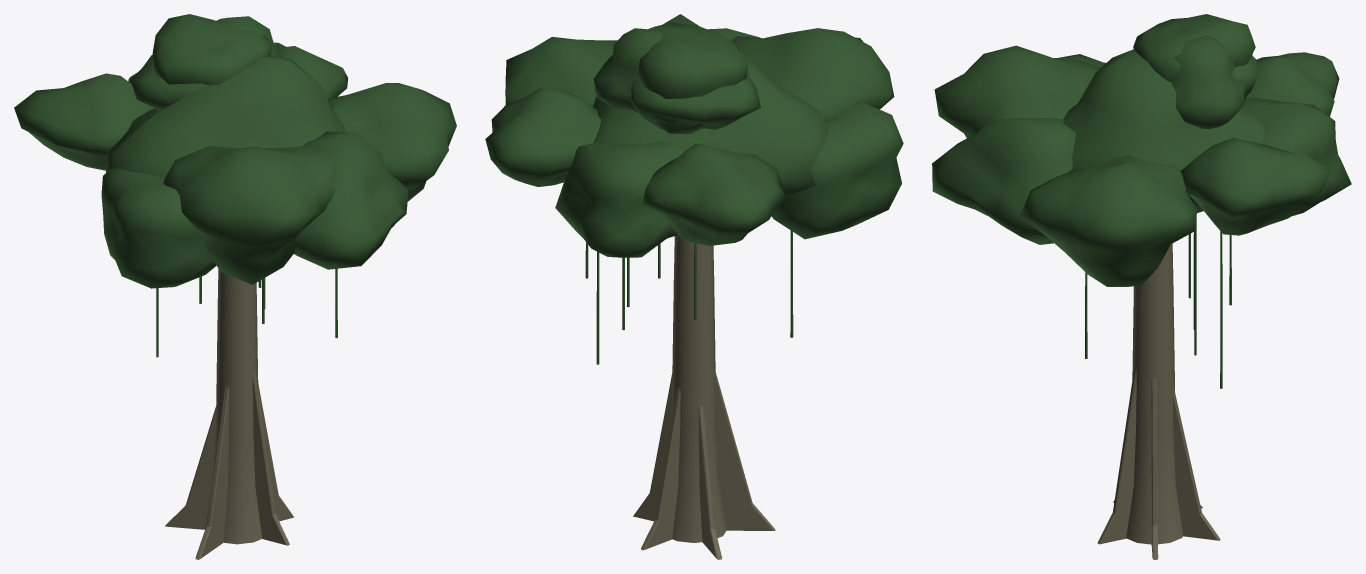
Rendered from canopy-tree.glb.
The picture shows the model from 3 angles, left to right: view 1: azimuth 30°, elevation 25°; view 2: azimuth 150°, elevation 25°; view 3: azimuth 270°, elevation 25°; orthographic projection. The views are drawn at different scales.
Parts seen in each view (by area): view 1: foliage-jungle, jungle-bark, leaf-dark; view 2: foliage-jungle, jungle-bark, leaf-dark; view 3: foliage-jungle, jungle-bark, leaf-dark.
Boxes of the visible parts, <box> form: foliage-jungle: <box>14,14,456,288</box>; jungle-bark: <box>165,269,293,559</box>; leaf-dark: <box>156,268,337,357</box>; foliage-jungle: <box>485,14,903,257</box>; jungle-bark: <box>633,235,775,559</box>; leaf-dark: <box>585,230,793,364</box>; foliage-jungle: <box>932,14,1351,286</box>; jungle-bark: <box>1097,243,1220,559</box>; leaf-dark: <box>1085,207,1231,388</box>.
Bounding box in the file's own units: 11.67 × 15.66 × 11.83.
